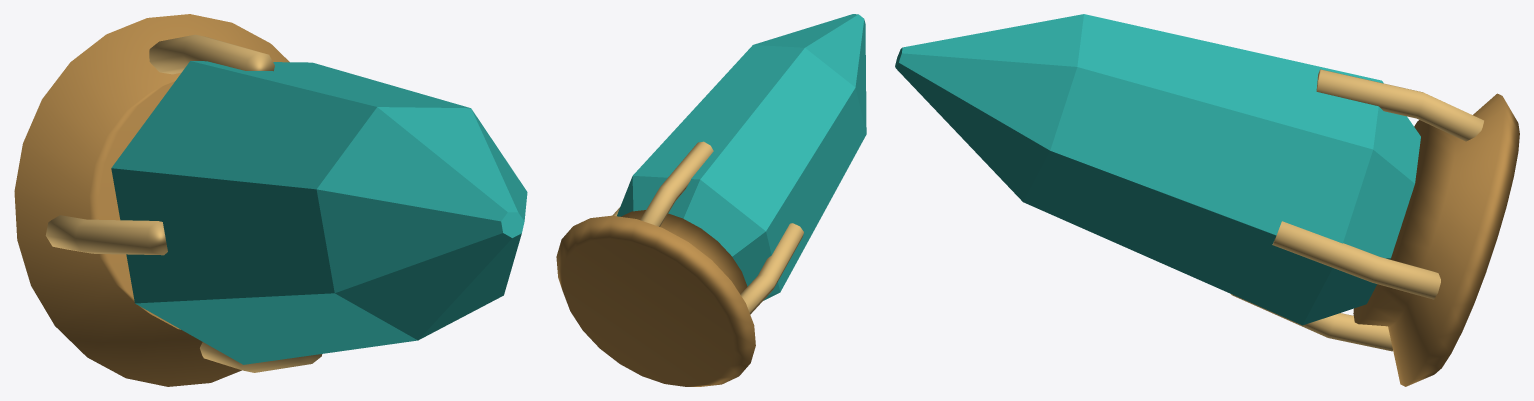
File: crystal_core.glb
3 renders of one model, left to right at view 1: azimuth 30°, elevation 25°; view 2: azimuth 150°, elevation 25°; view 3: azimuth 270°, elevation 25°, orthographic. The views are drawn at different scales.
Visible parts, largest first — view 1: SM_crystal_core; view 2: SM_crystal_core; view 3: SM_crystal_core.
Boxes of the visible parts, left/top/right/bottom form: SM_crystal_core: left=14, top=14, right=527, bottom=386; SM_crystal_core: left=556, top=14, right=866, bottom=386; SM_crystal_core: left=895, top=14, right=1519, bottom=386.
Bounding box in the file's own units: 0.192 × 0.2386 × 0.3878.
